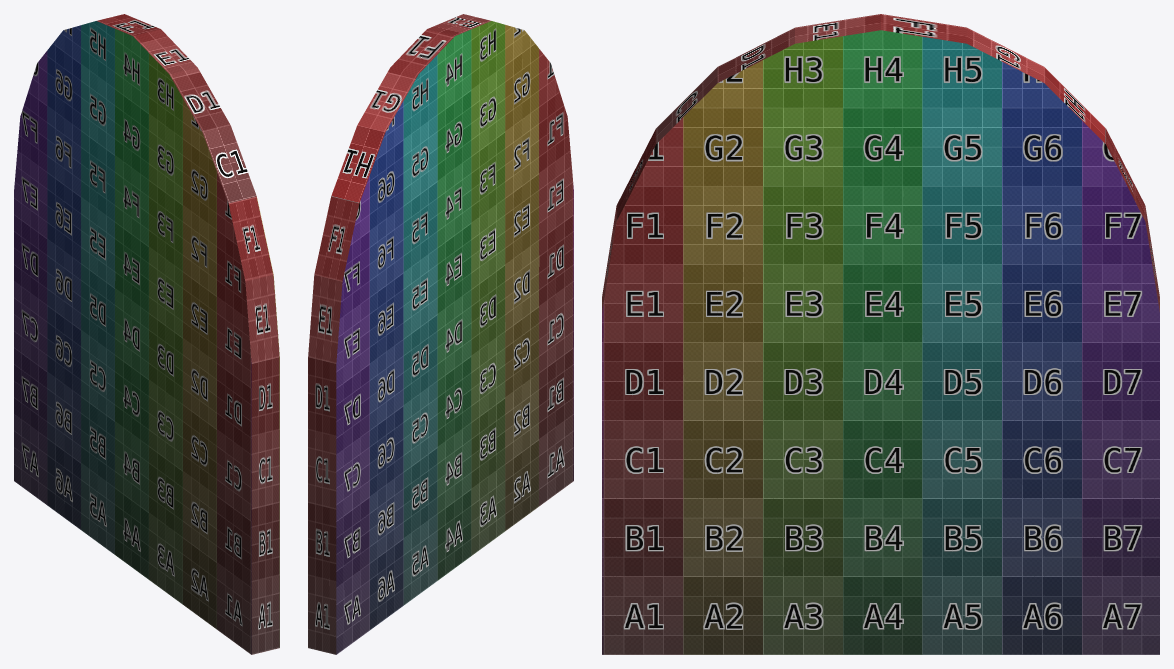
The model's file is asset-gate-door.fbx.
The picture shows the model from 3 angles, left to right: view 1: azimuth 30°, elevation 25°; view 2: azimuth 150°, elevation 25°; view 3: azimuth 270°, elevation 25°; orthographic projection. The views are drawn at different scales.
Parts seen in each view (by area): view 1: asset-gate-door; view 2: asset-gate-door; view 3: asset-gate-door.
Boxes of the visible parts, <box> form: asset-gate-door: <box>14,14,279,654</box>; asset-gate-door: <box>308,14,573,654</box>; asset-gate-door: <box>602,14,1159,654</box>.
Size of the model in its own units: 10 by 180 by 145.
